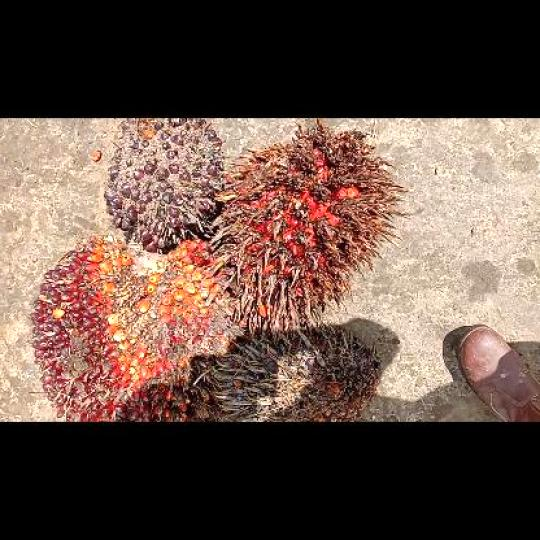kurang masak: (105, 118, 225, 251)
masak: (31, 236, 229, 421)
terlalu masak: (210, 117, 402, 337)
